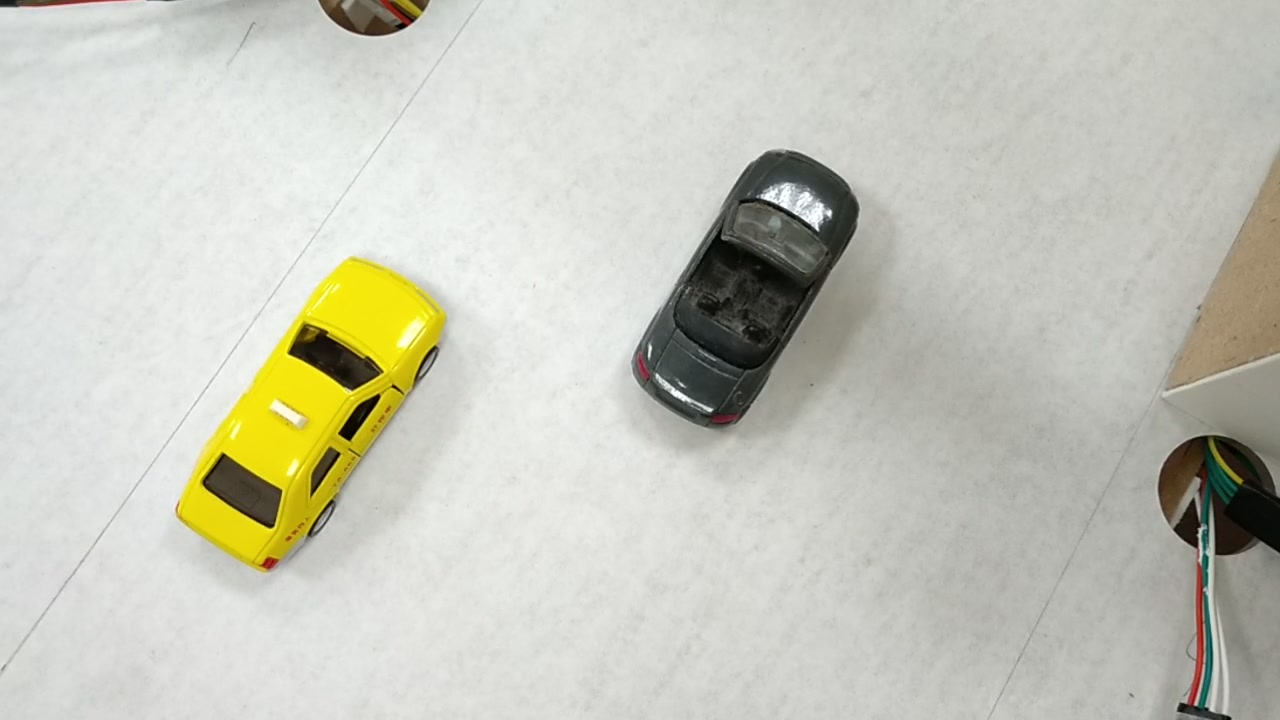car: (174, 257, 449, 572), (630, 153, 850, 425)
